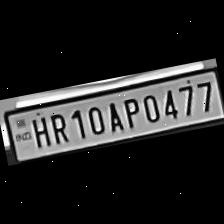0: (82, 100, 108, 136), (137, 90, 163, 126)
1: (64, 105, 88, 143)
4: (155, 86, 180, 122)
7: (192, 76, 218, 114), (174, 81, 198, 118)
A: (101, 97, 124, 133)
H: (27, 112, 52, 150)
P: (117, 93, 143, 130)
R: (45, 108, 71, 146)
